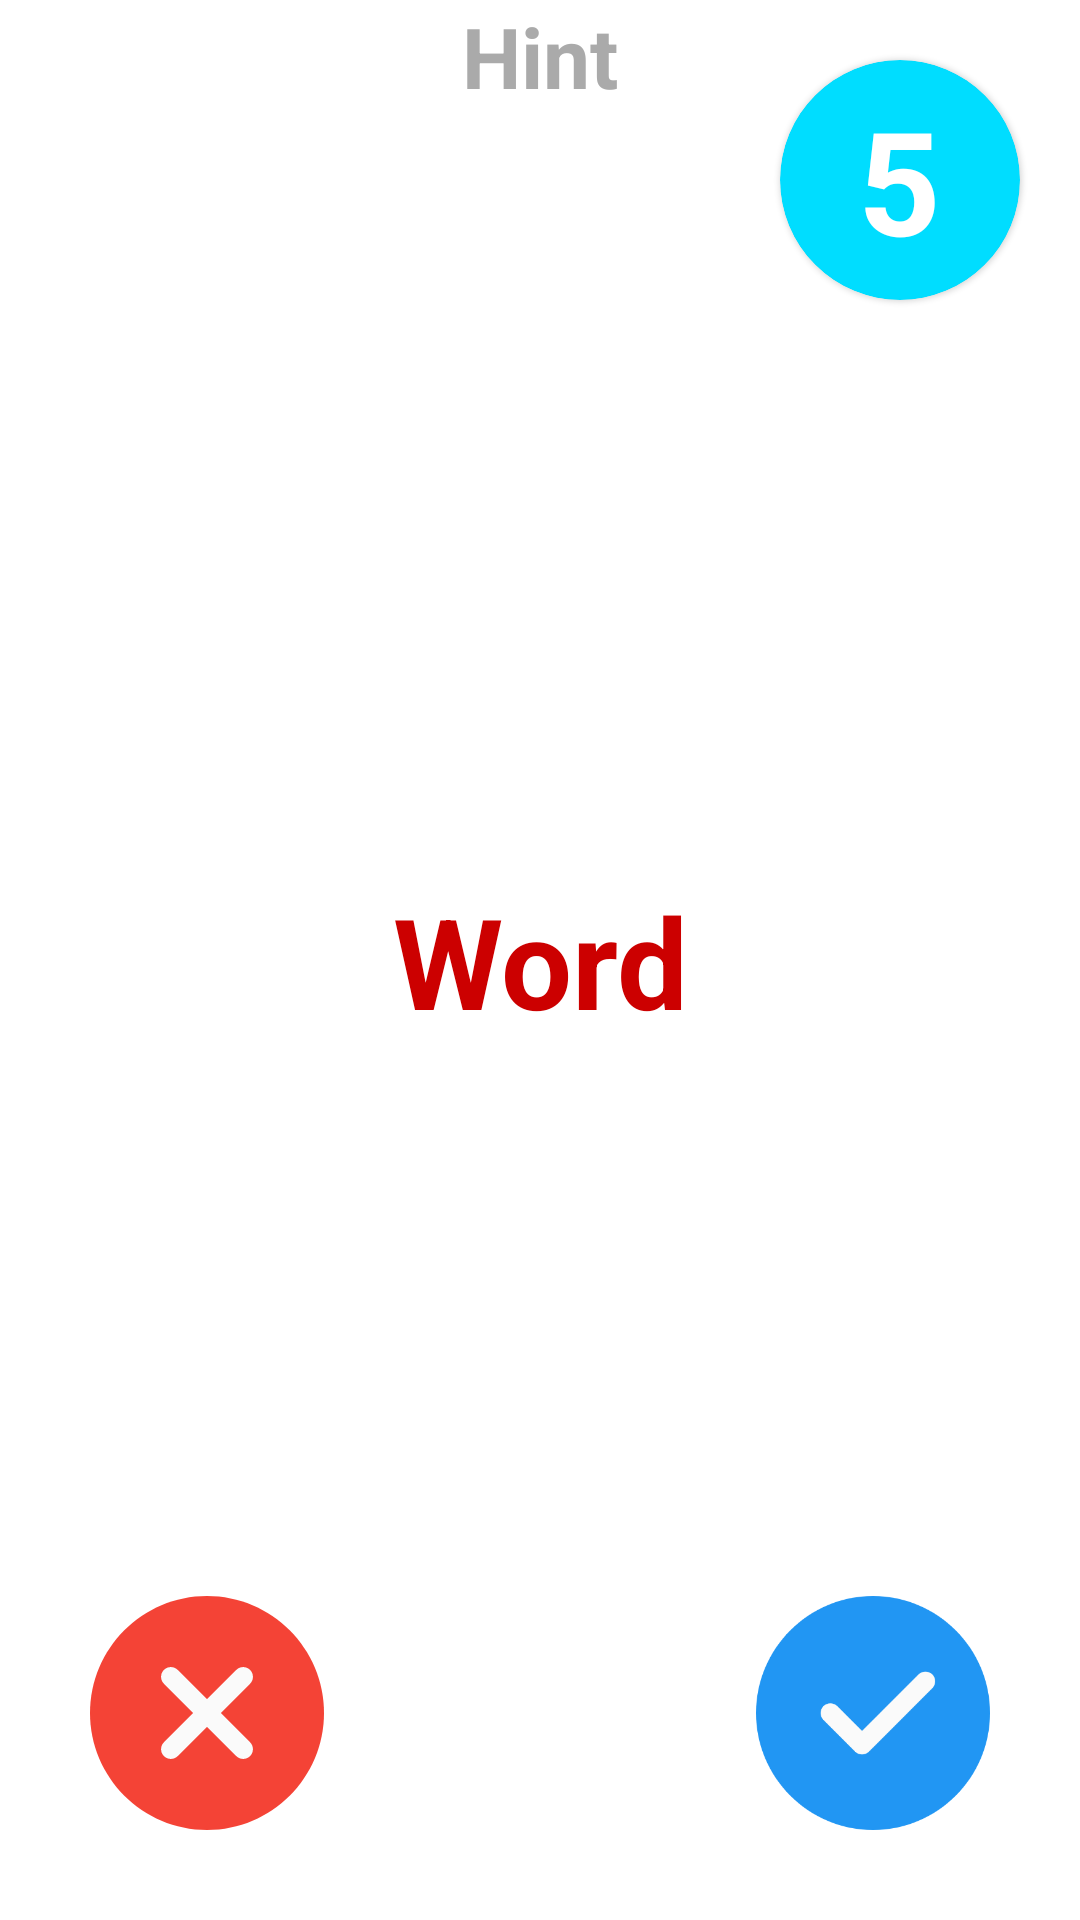

Where to tap for icons on this 1080×1920 app screen, as (x=x, y=y):
correct: (x=873, y=1713)
wrong: (x=207, y=1713)
